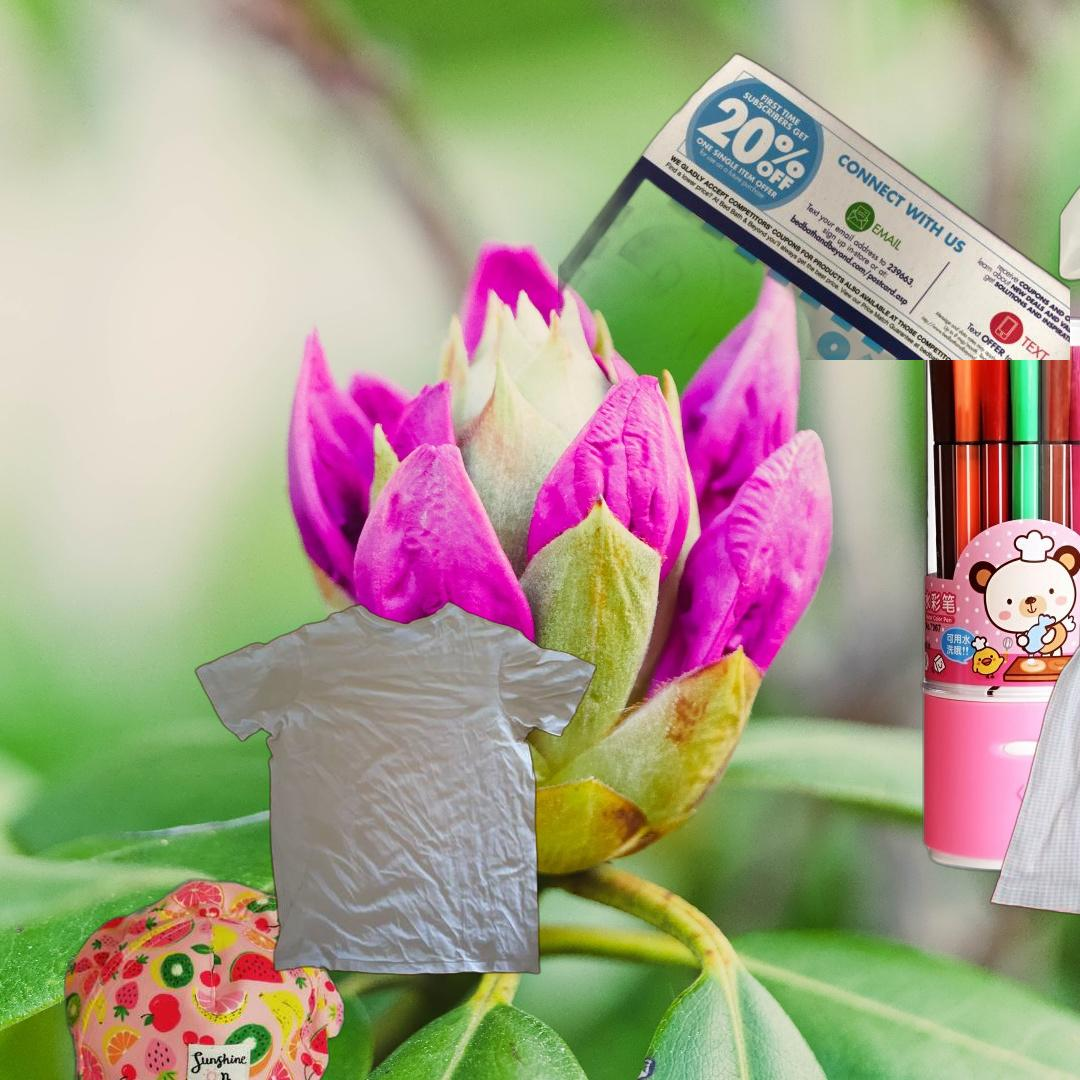clothes: (190, 598, 602, 979), (60, 872, 348, 1080), (988, 585, 1080, 920)
paper: (558, 50, 1070, 360)
penholder: (917, 312, 1080, 878)
plastic-bottles: (1055, 147, 1080, 294)
